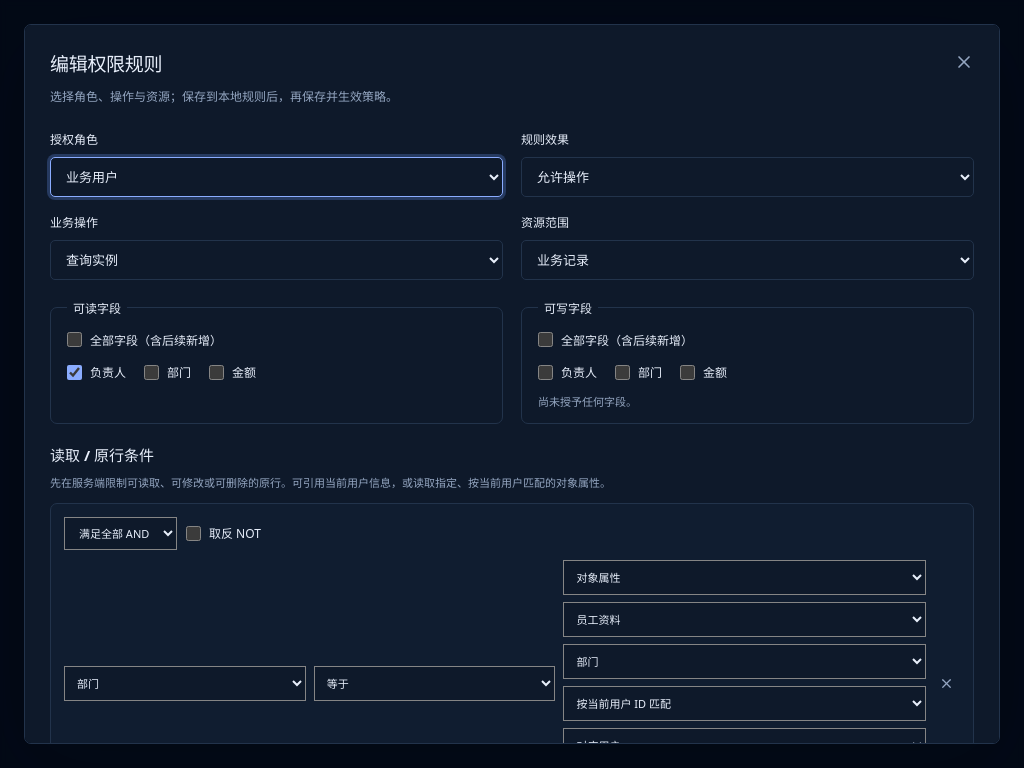
权限上下文编辑 › 字段类型变化保留对象来源并要求重新选属性，不静默删掉行限制
Select "金额" in the dropdown named "行条件字段": (185, 684) [64, 666, 306, 701]
(page scrolled)
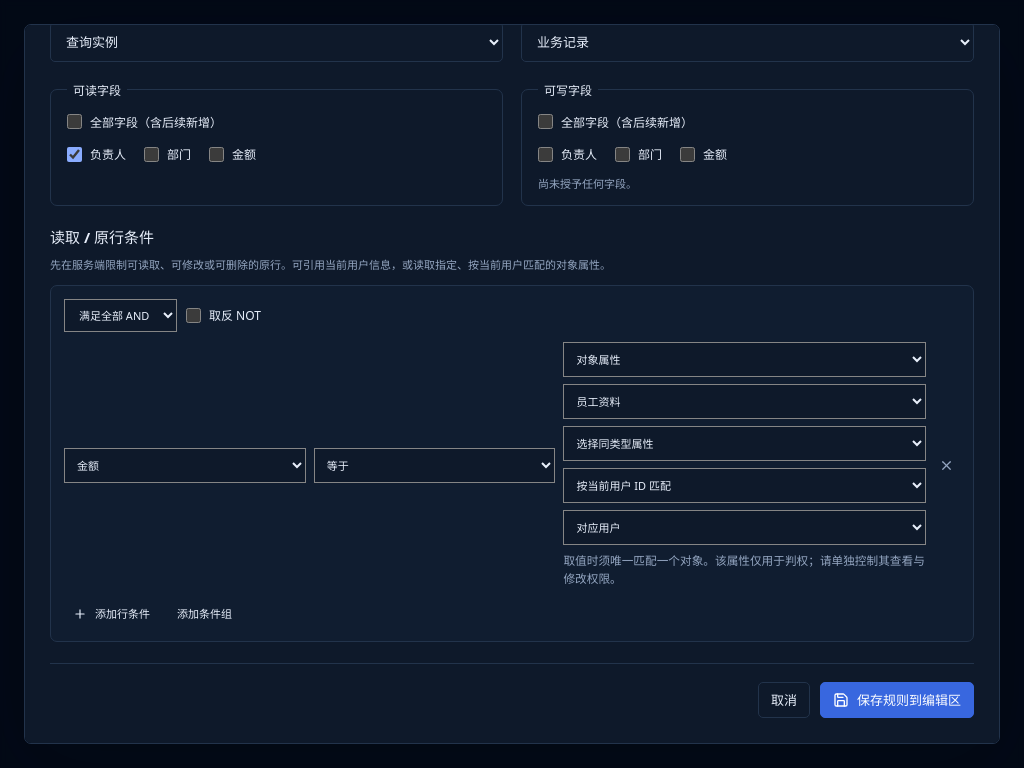
Expected: the dropdown named "行条件取值来源" shows "对象属性", [563, 342, 926, 377]
Expected: the dropdown named "取值对象属性" shows "选择同类型属性", [563, 426, 926, 461]
Click the button "保存规则到编辑区": (897, 700) [820, 682, 974, 718]
(page scrolled)
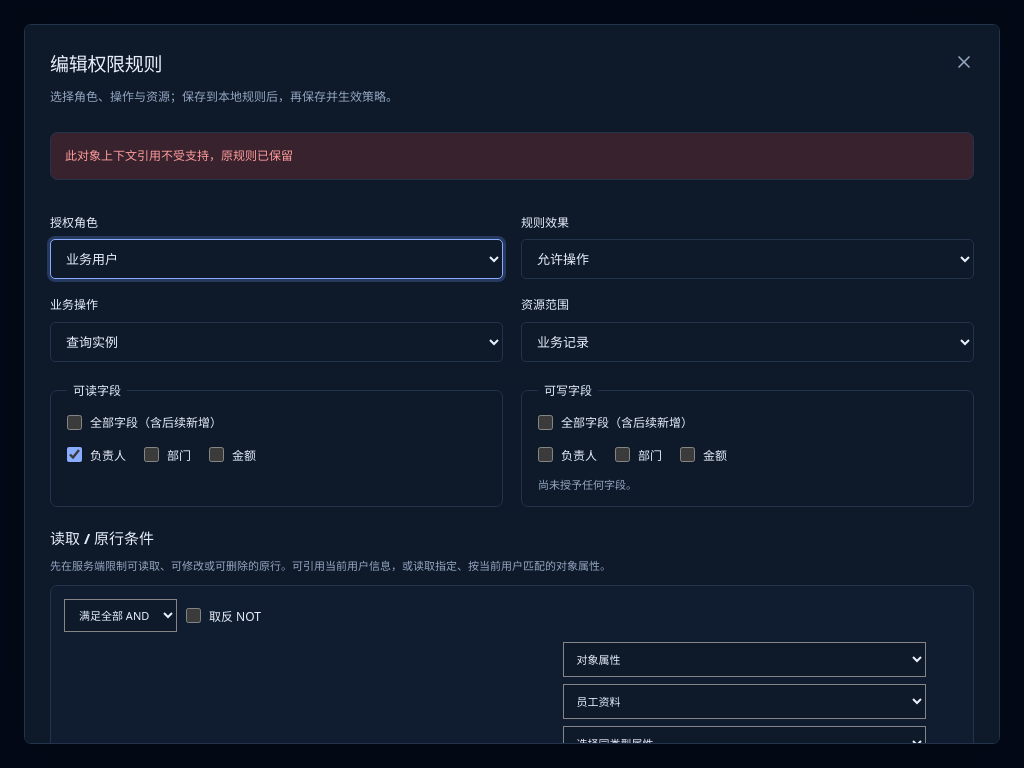
Expected: the message shows "对象上下文引用不受支持", [65, 147, 293, 164]
